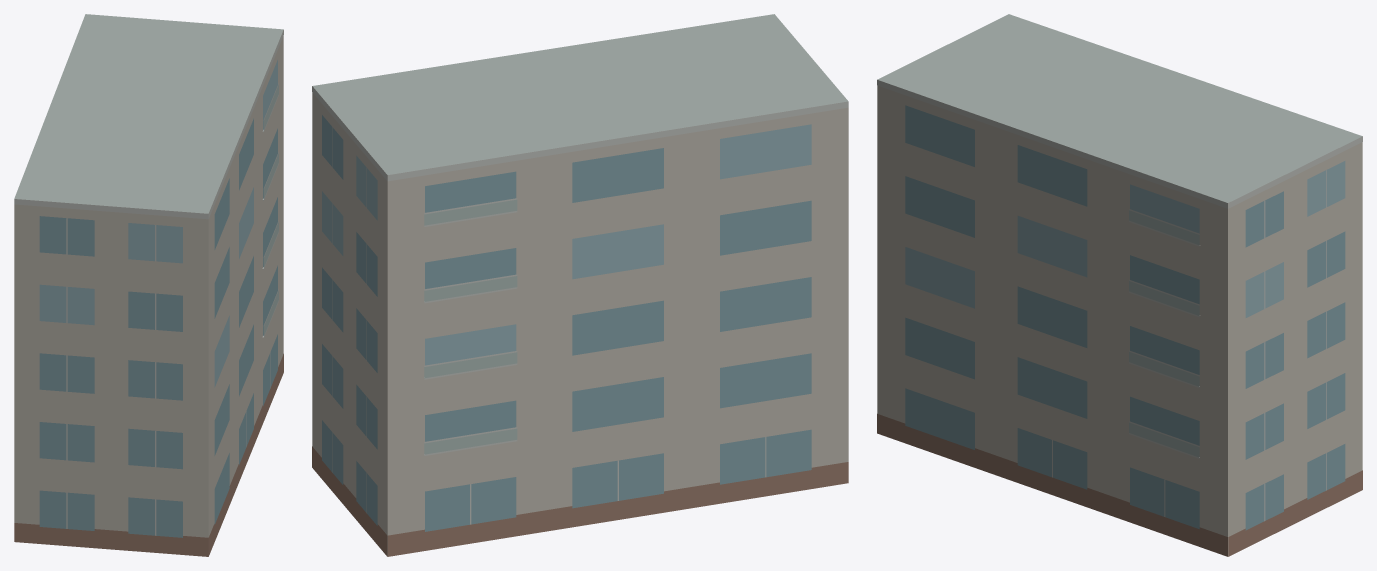
File: survey-upis-32964788.glb
3 renders of one model, left to right at view 1: azimuth 30°, elevation 25°; view 2: azimuth 150°, elevation 25°; view 3: azimuth 270°, elevation 25°, orthographic. The views are drawn at different scales.
Visible parts, largest first — view 1: survey-upis-32964788.tmp; view 2: survey-upis-32964788.tmp; view 3: survey-upis-32964788.tmp.
Part boxes in pixels (<box>): survey-upis-32964788.tmp: <box>14,14,283,556</box>; survey-upis-32964788.tmp: <box>312,14,848,556</box>; survey-upis-32964788.tmp: <box>877,14,1362,556</box>.
Size of the model in its own units: 17.32 by 15.1 by 18.79.
